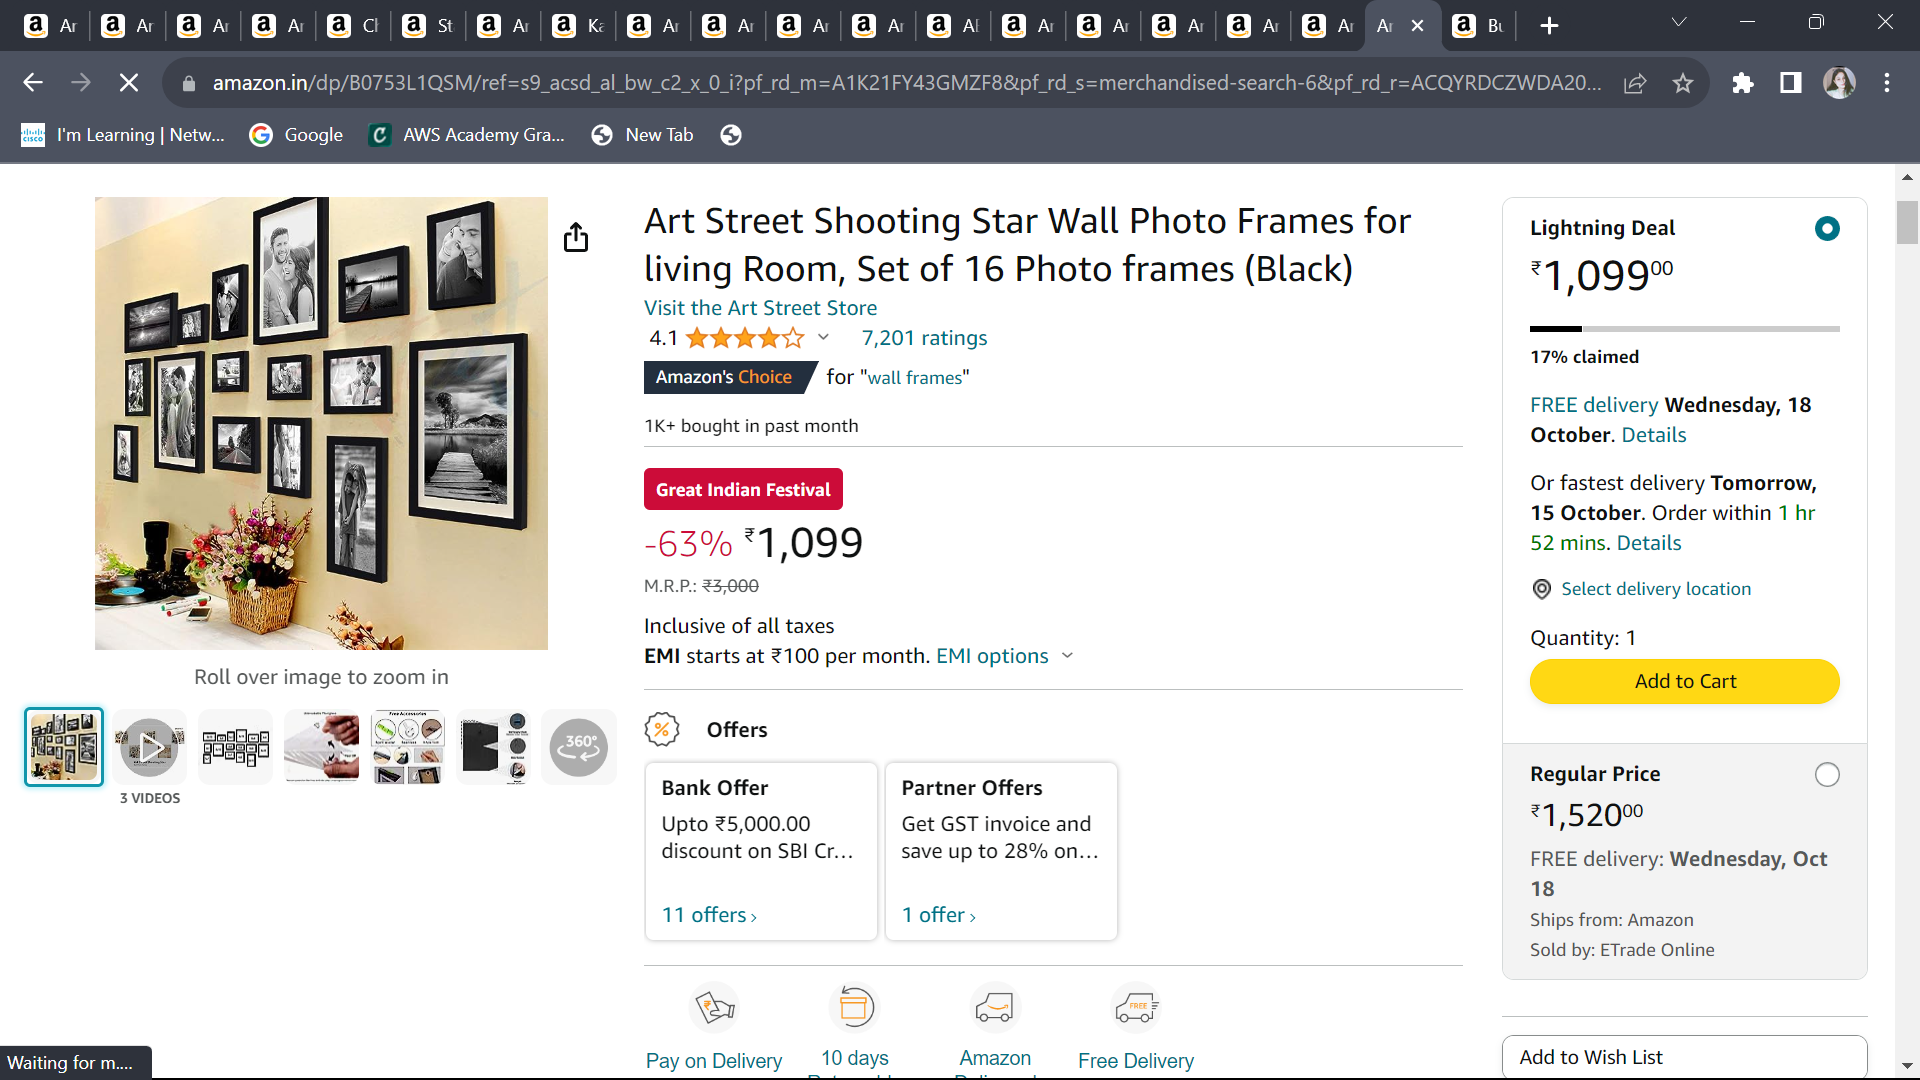Image: (42, 179, 588, 666)
Paragraph: (621, 711, 1162, 926), (628, 167, 1445, 286), (1514, 385, 1870, 618), (1520, 741, 1866, 968), (7, 699, 603, 812), (640, 618, 1093, 711), (603, 272, 1065, 352), (615, 505, 973, 607), (1528, 203, 1729, 316), (1514, 666, 1845, 723), (829, 355, 1004, 409), (628, 411, 884, 442), (1514, 621, 1696, 651)
